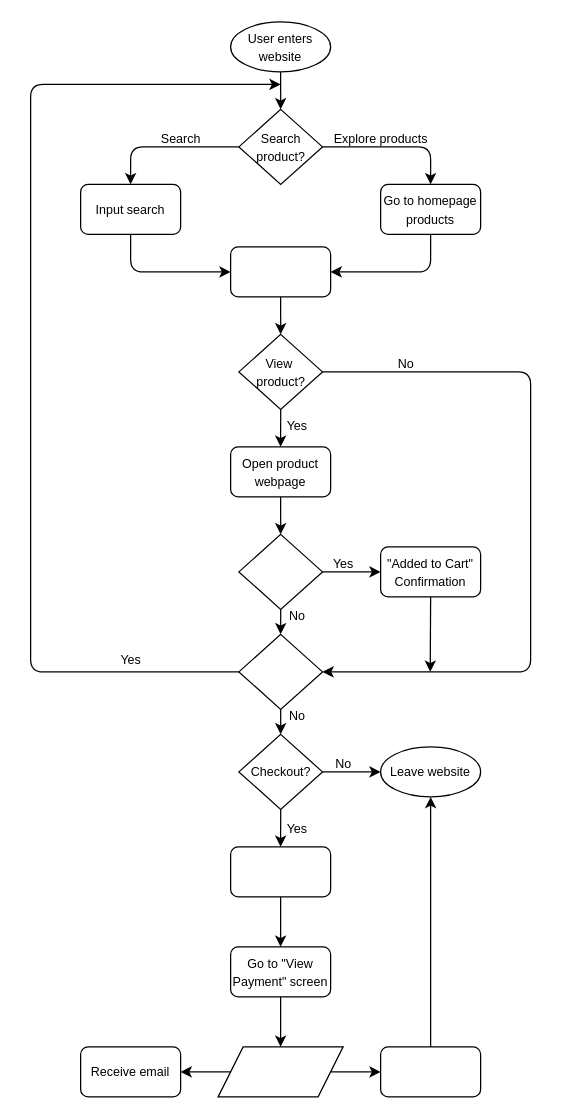
Image size: 563x1120. Some labels were removed from this diagram. Each missing label, with the centre of its shape:
Add to cart?: (x=280, y=571)
Continue shopping?: (x=280, y=671)
Display "Order Confirmation" screen: (x=430, y=1071)
Go to "View Cart" screen: (x=280, y=871)
Input payment information: (x=280, y=1071)
Look over products: (x=280, y=271)
